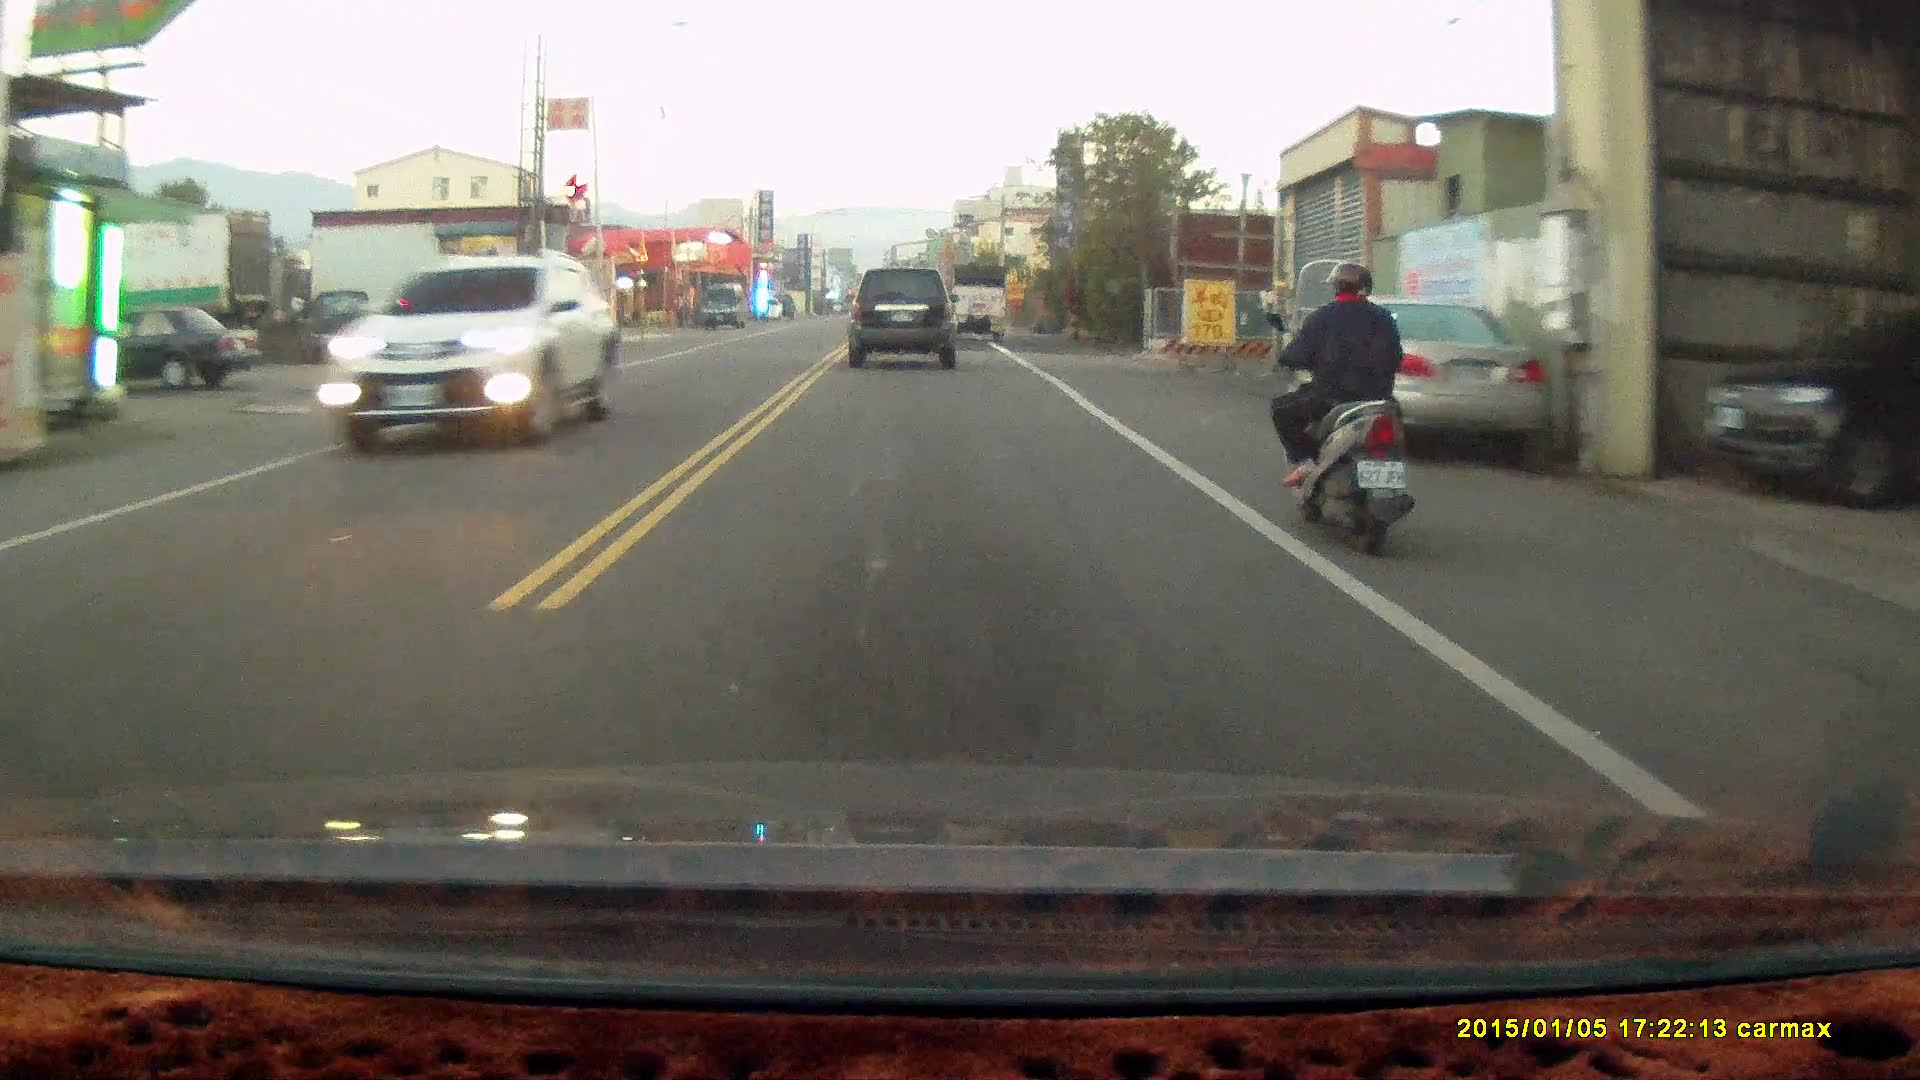rider: (1268, 254, 1415, 553)
vehicle: (317, 257, 621, 451), (1699, 293, 1920, 506), (1271, 295, 1541, 455), (88, 304, 261, 393), (849, 265, 961, 373), (301, 299, 378, 370), (948, 262, 1011, 342)
